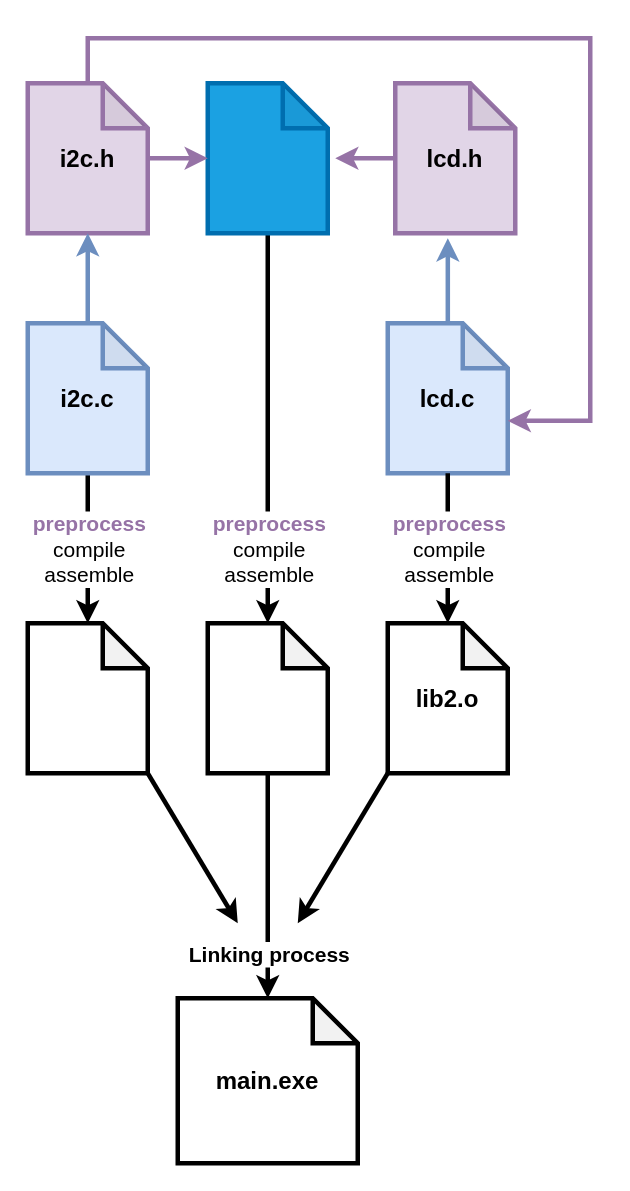
Some shapes in this 630 by 1191 pixel diagram are drawn without their labels. Each missing label, with the box of its shape:
lib1.o: (25, 620, 149, 775)
main.c: (205, 80, 329, 235)
main.o: (205, 620, 329, 775)
